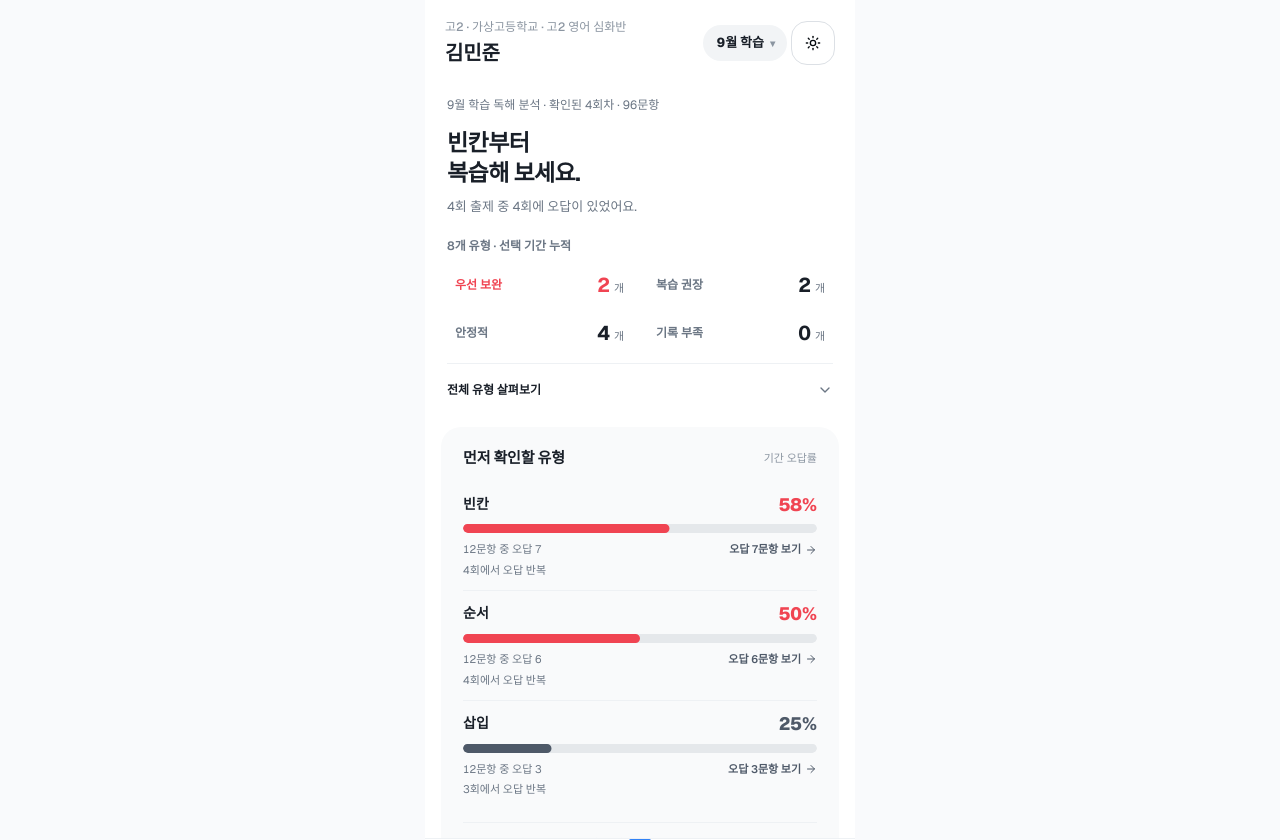
Test: 공유 리포트 실제 화면 재사용 › 분석의 실제 태그와 오답 문항을 드로어로 전달하고 닫기까지 연결한다
Click the button "빈칸 58% 12문항 중 오답 7 오답 7문항 보기 4회에서 오답 반복" at {"x": 640, "y": 536}, box [463, 494, 817, 578]
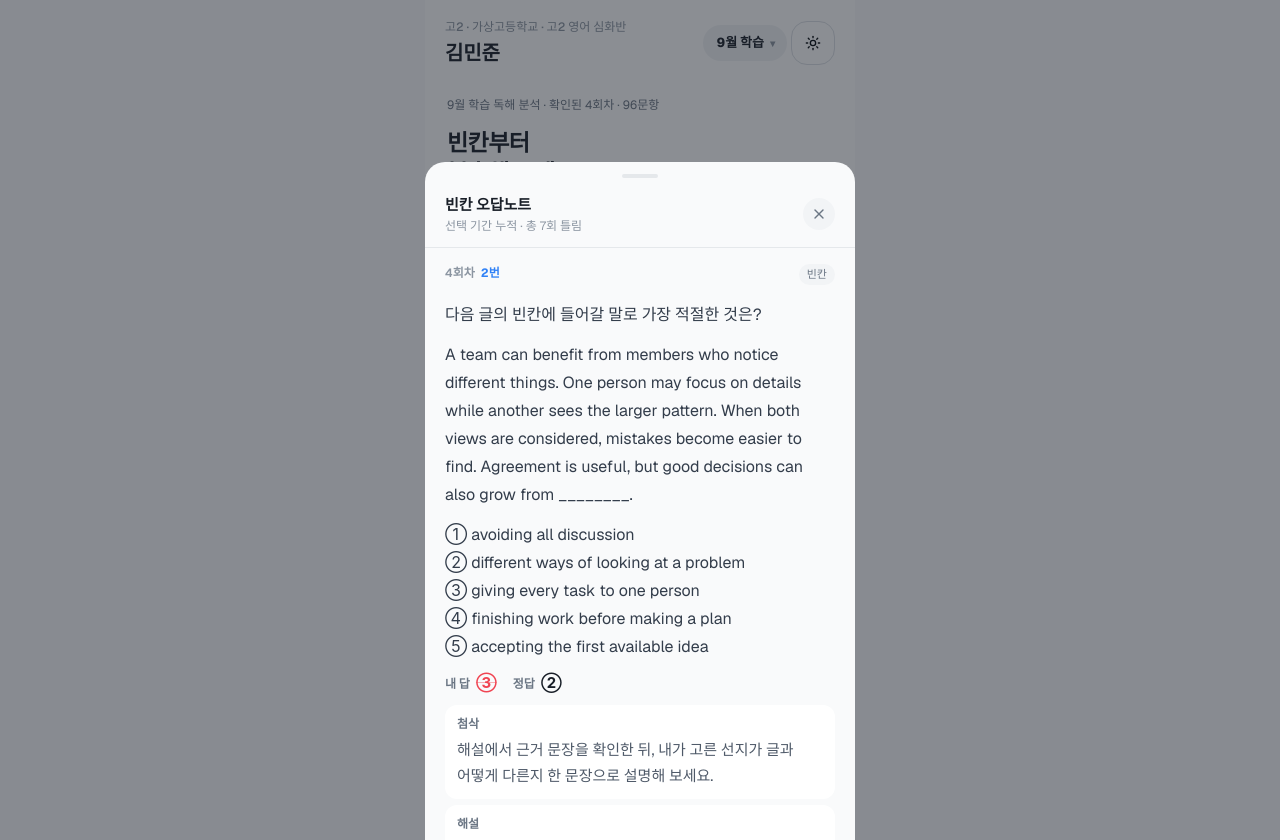
Expected: the heading "빈칸 오답노트" is shown, [445, 195, 531, 214]
Click the button named "닫기" at {"x": 819, "y": 214}, box [803, 198, 835, 230]
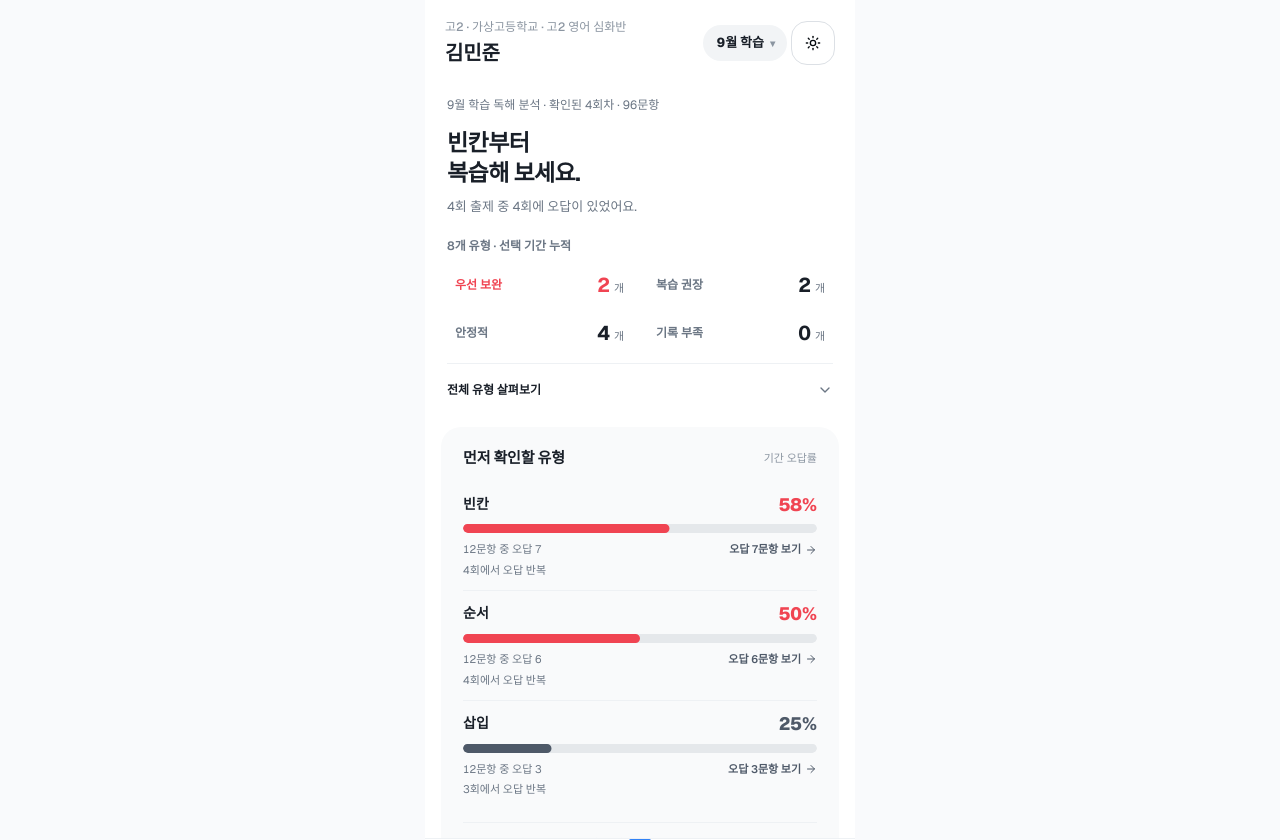
Expected: the heading "빈칸 오답노트" is gone
